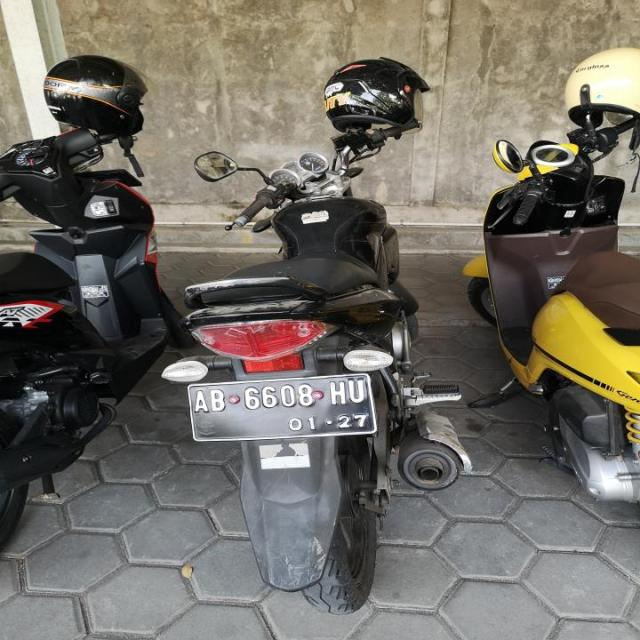License Plate: (185, 371, 379, 444)
